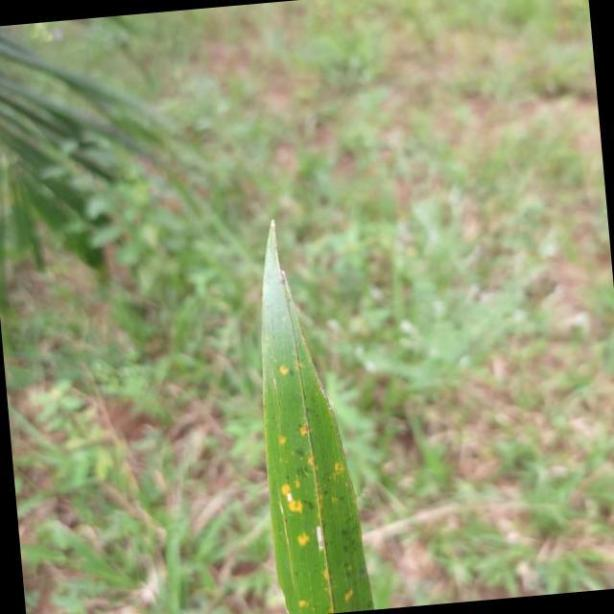Kalium: (259, 208, 374, 614)
